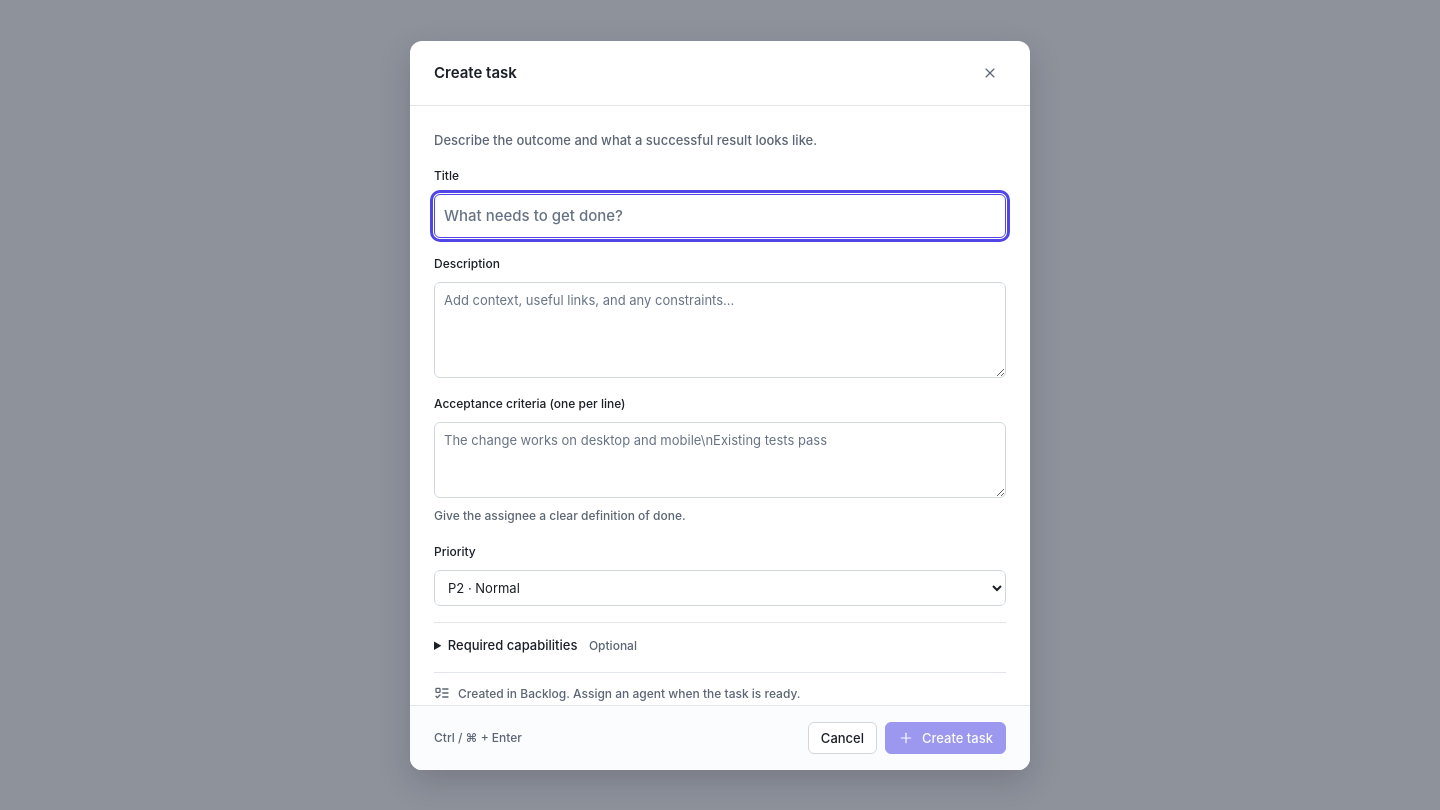
Test: CreateTaskModal › disables submit until a title is entered
The width and height of the screenshot is (1440, 810).
Expected: the button "Create task" is disabled, x1=885 y1=722 x2=1006 y2=754
Step 1. Type "x" into the field labelled "Title" → point(720, 216), box x1=434 y1=194 x2=1006 y2=238
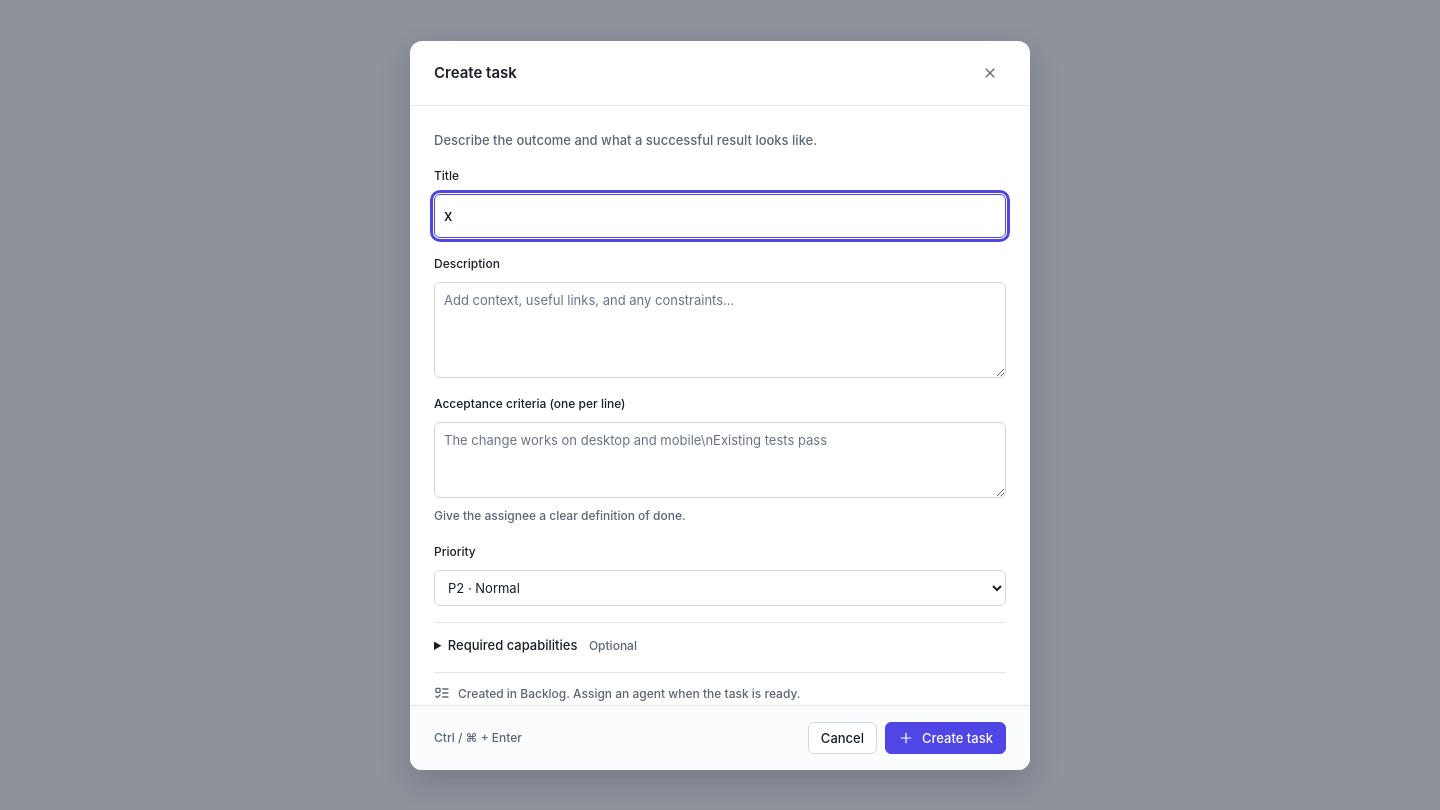
Result: the button "Create task" is enabled at x1=885 y1=722 x2=1006 y2=754
